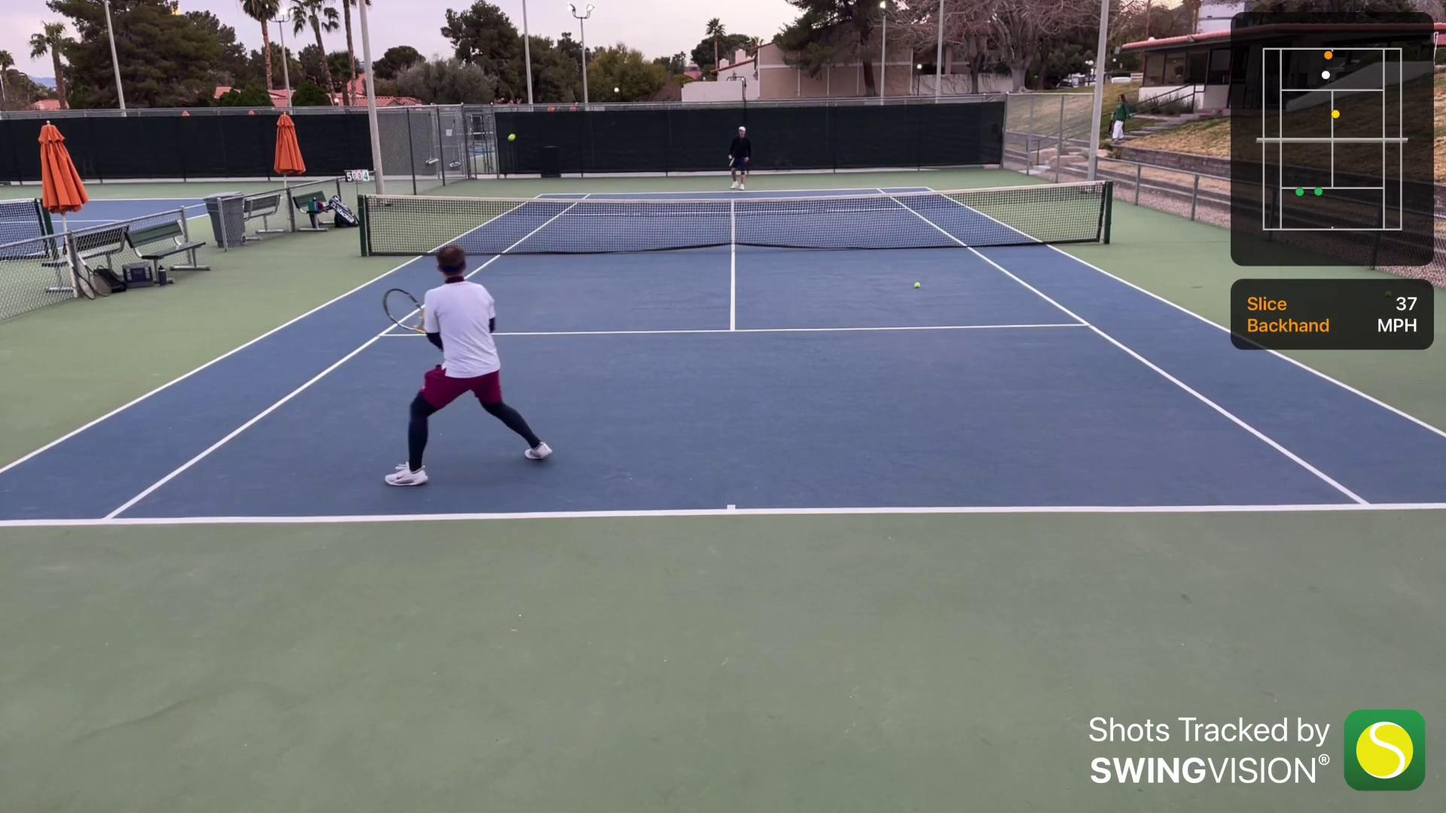ball: (911, 279, 921, 292), (508, 133, 516, 143)
